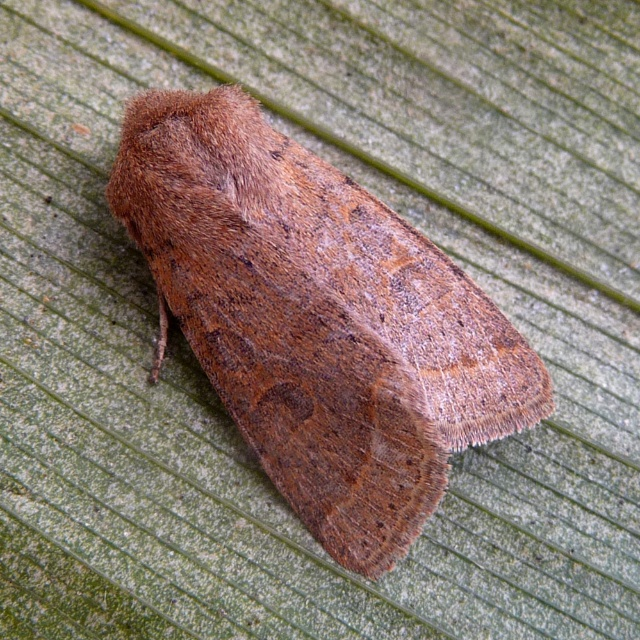Moths and butterflies: (98, 80, 561, 583)
